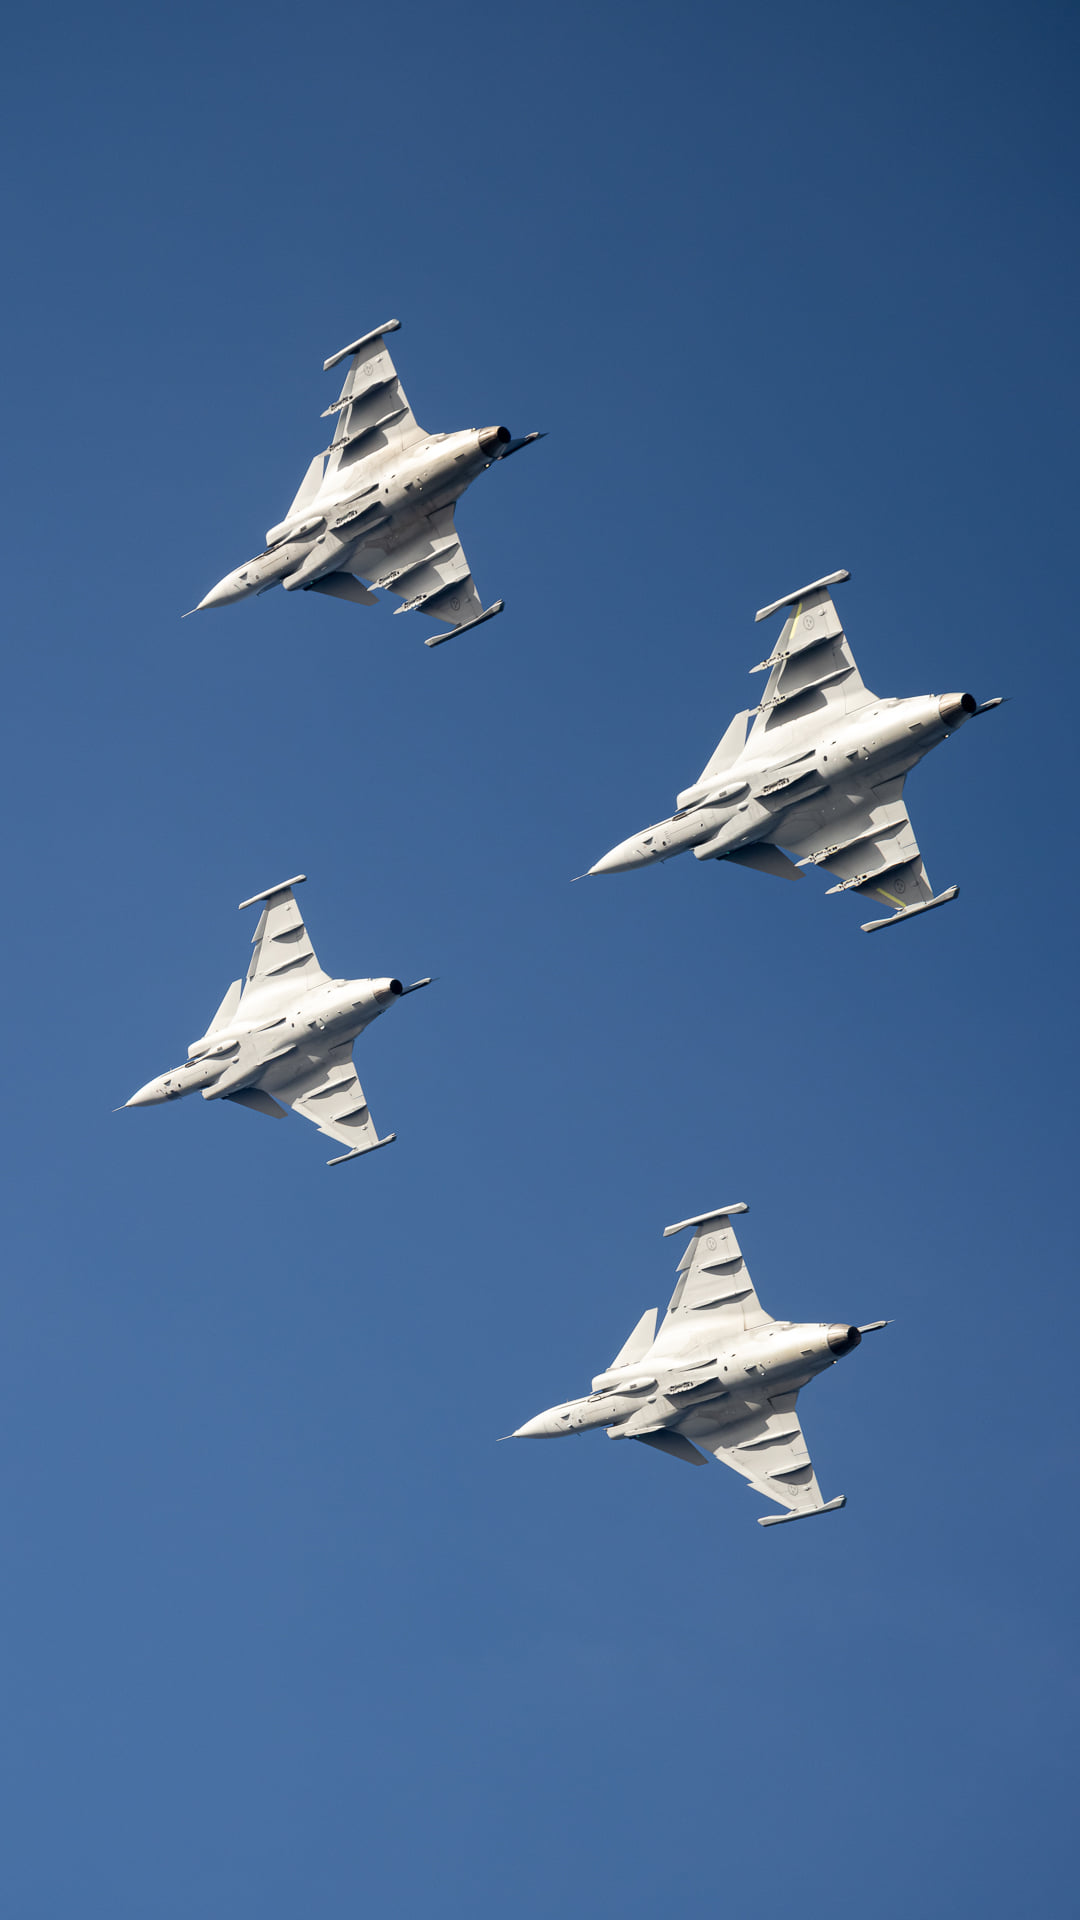JAS39: (568, 568, 1013, 934), (495, 1201, 895, 1528), (179, 318, 551, 647), (111, 873, 440, 1167)
